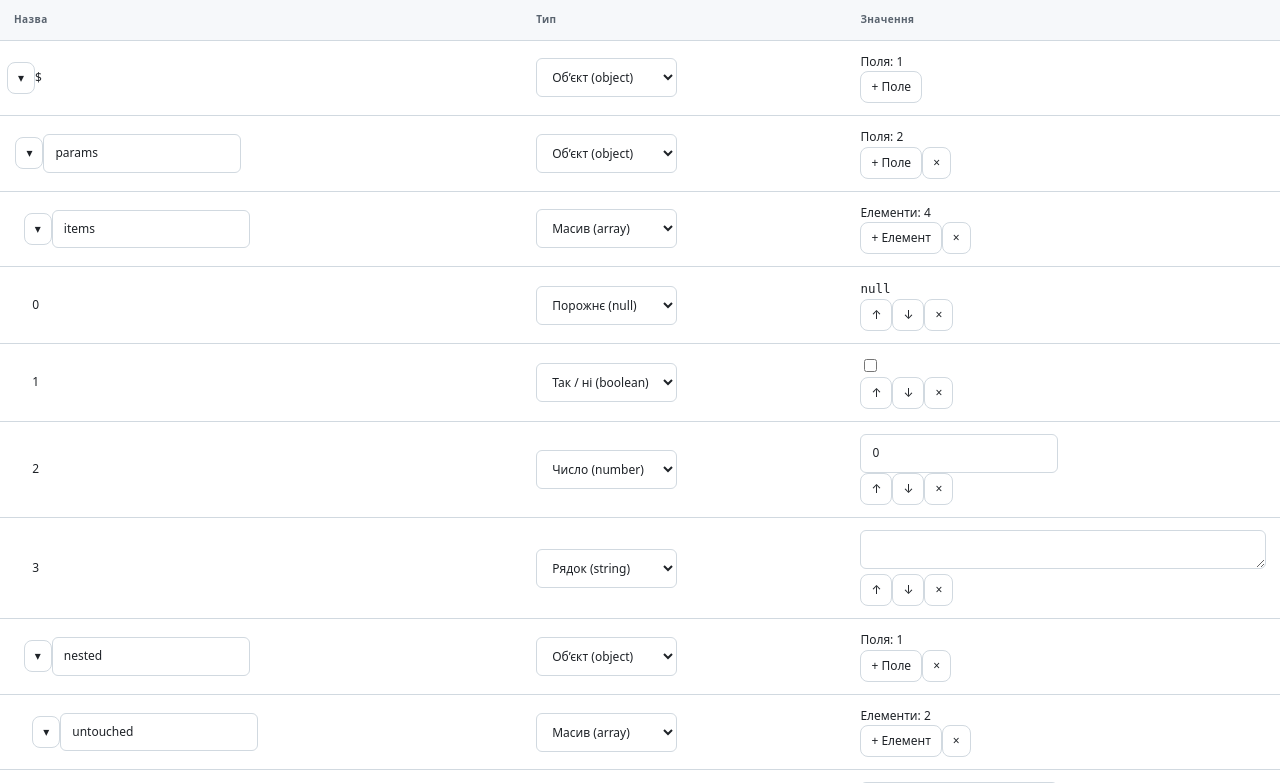
retains an invalid number and its error when its parent is collapsed
Clear the number field named "Значення $.params.items[2]" at (959,454), box [860,434,1058,473]
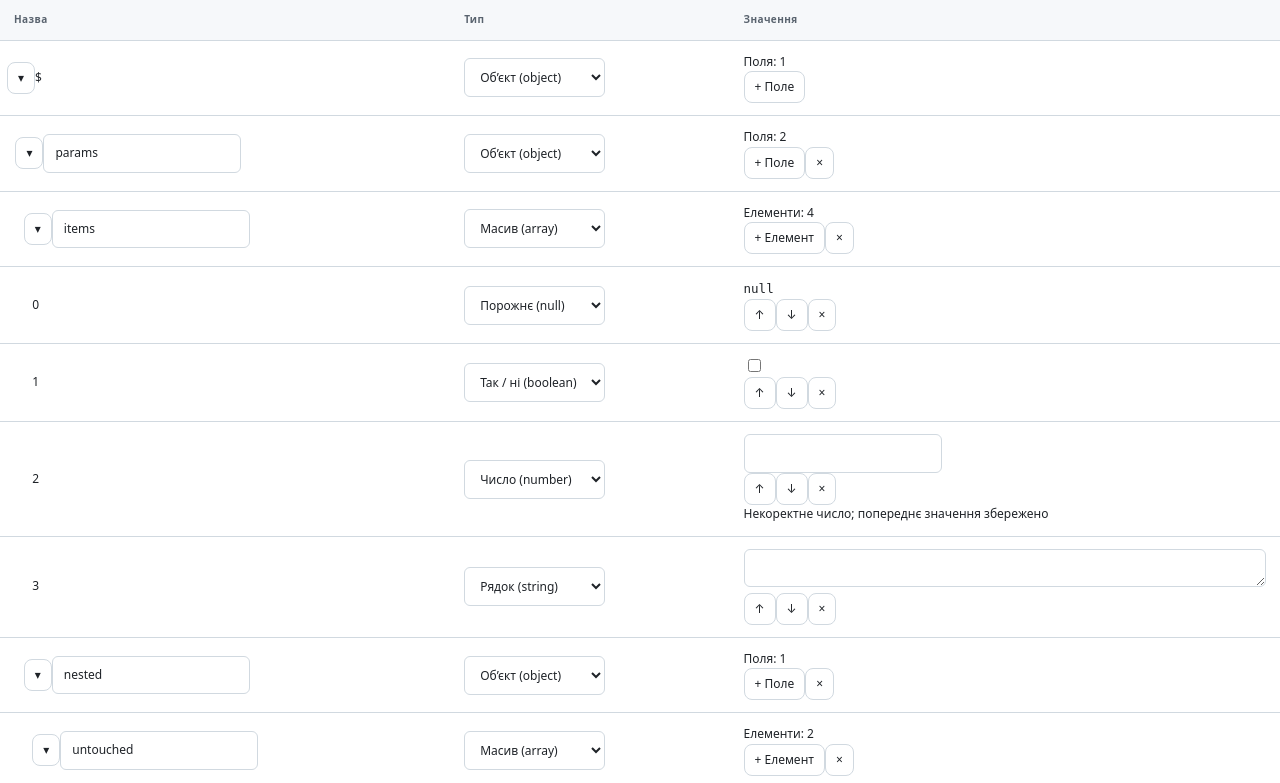
Click the button named "Розгорнути $.params" at (29,153), box [15,137,43,169]
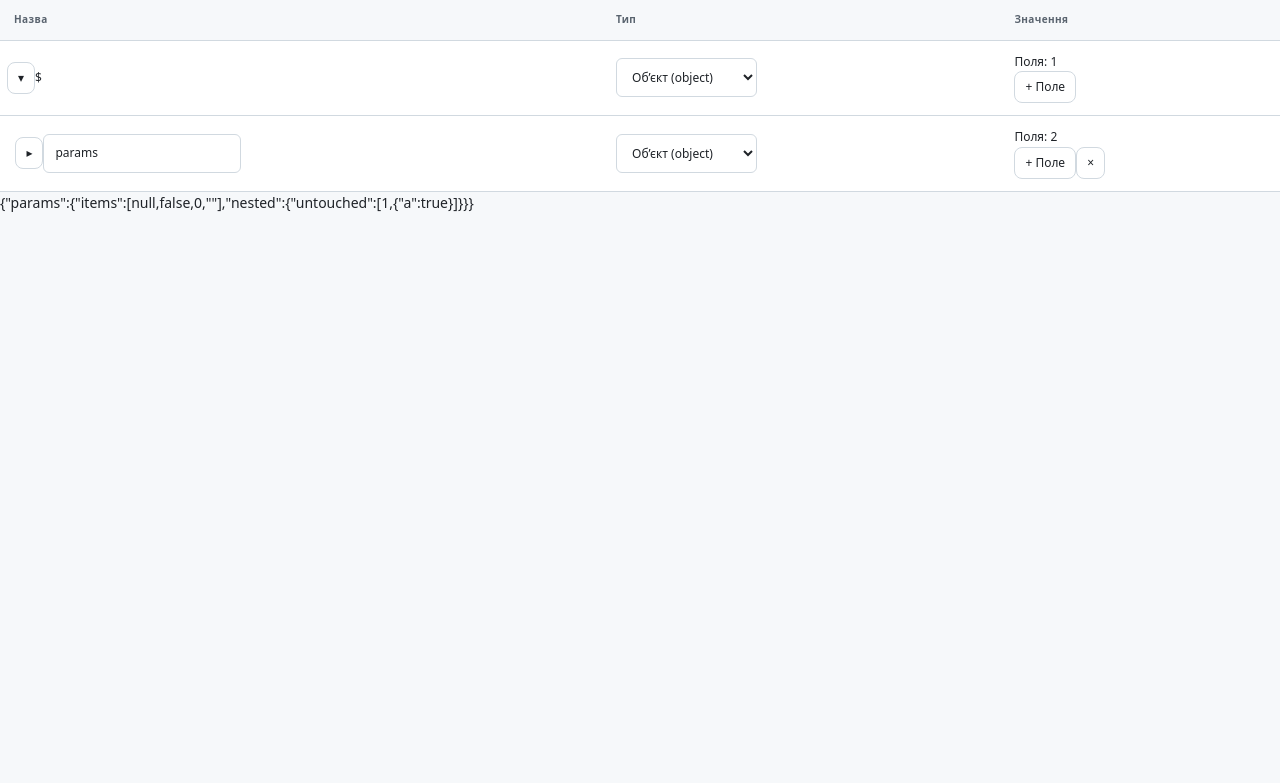
Click the button named "Розгорнути $.params" at (29,153), box [15,137,43,169]
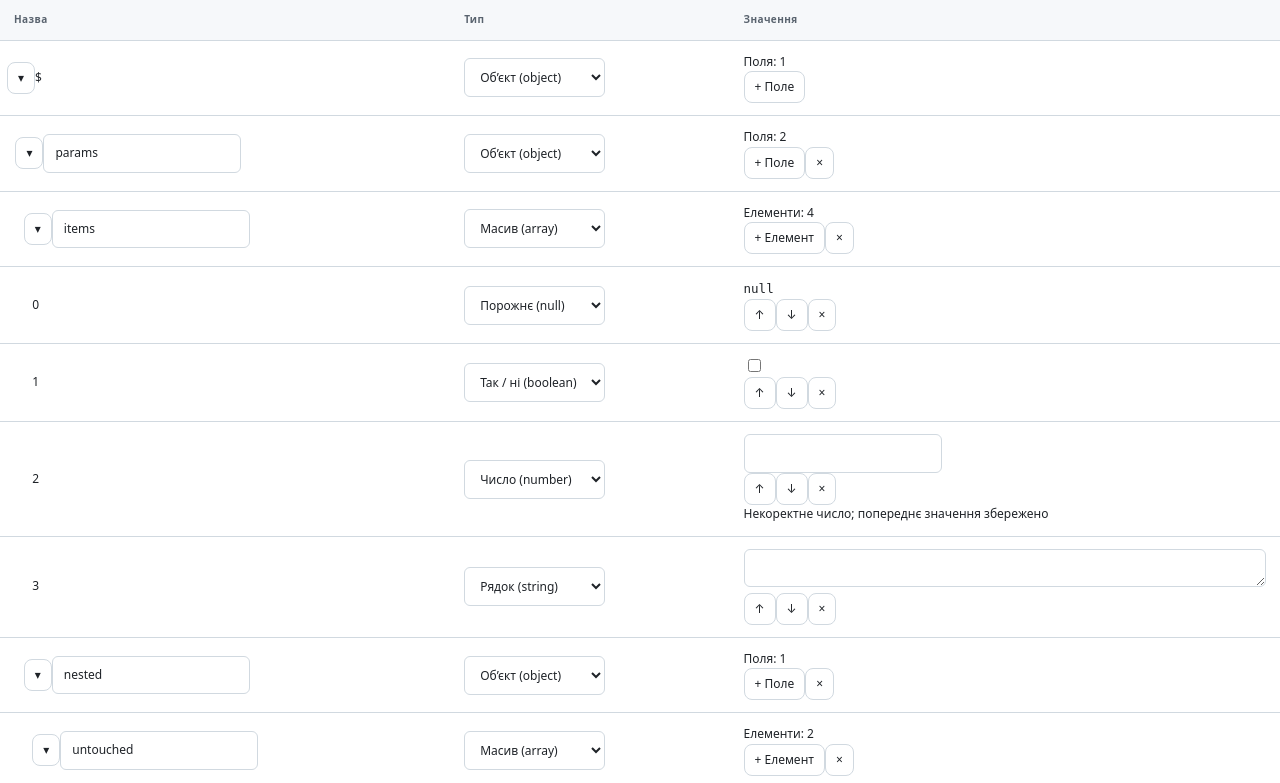
Result: the message shows "Некоректне число" at [744,505,1048,522]
